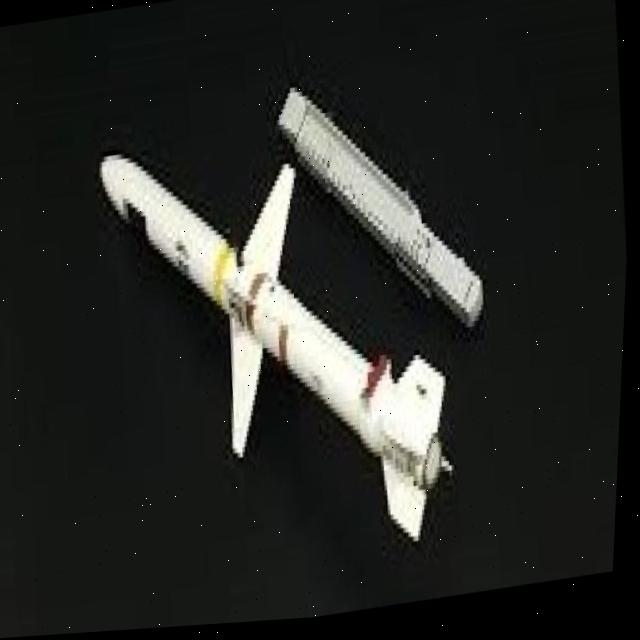missile: (83, 103, 475, 593), (272, 60, 499, 361)
